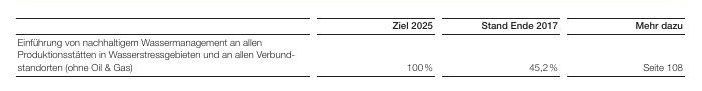table: (0, 0, 702, 91)
